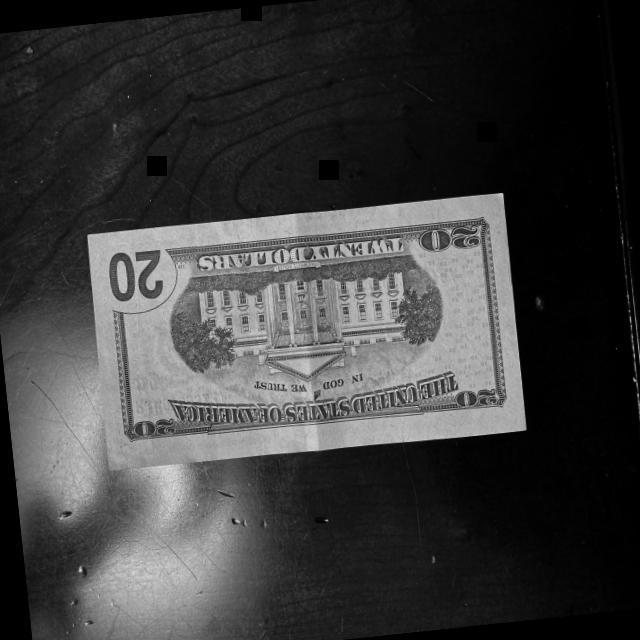twenty: (81, 186, 528, 474)
